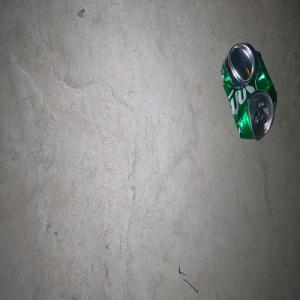SodaCan: (220, 42, 277, 140)
